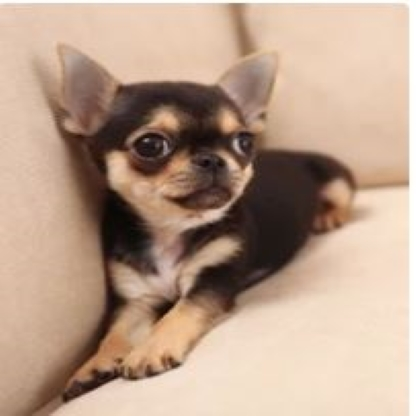chihuahua: (56, 40, 357, 402)
